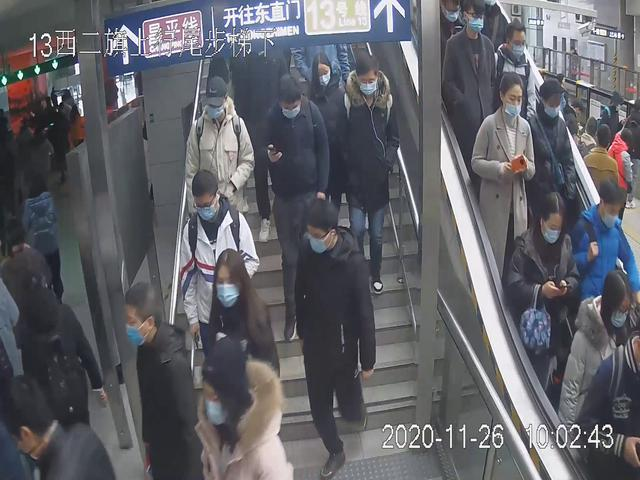person: (292, 188, 380, 480), (179, 164, 263, 413), (257, 72, 329, 342), (329, 53, 403, 298), (119, 277, 207, 480), (501, 188, 574, 411), (183, 72, 256, 283), (471, 70, 534, 313), (566, 178, 636, 385), (445, 1, 501, 231), (518, 74, 580, 280)
